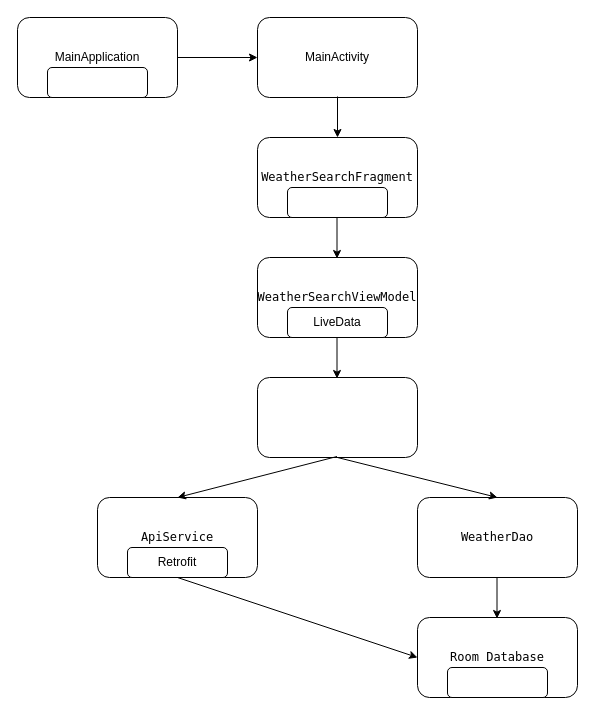
Image size: 595x715. Some labels were removed from this diagram. The centre of each missing label's shape, as x and y in pixels:
Cached, Encrypted: (x=497, y=682)
Data Binding: (x=337, y=202)
Koin modules: (x=97, y=82)
WeatherRepository: (x=337, y=417)
